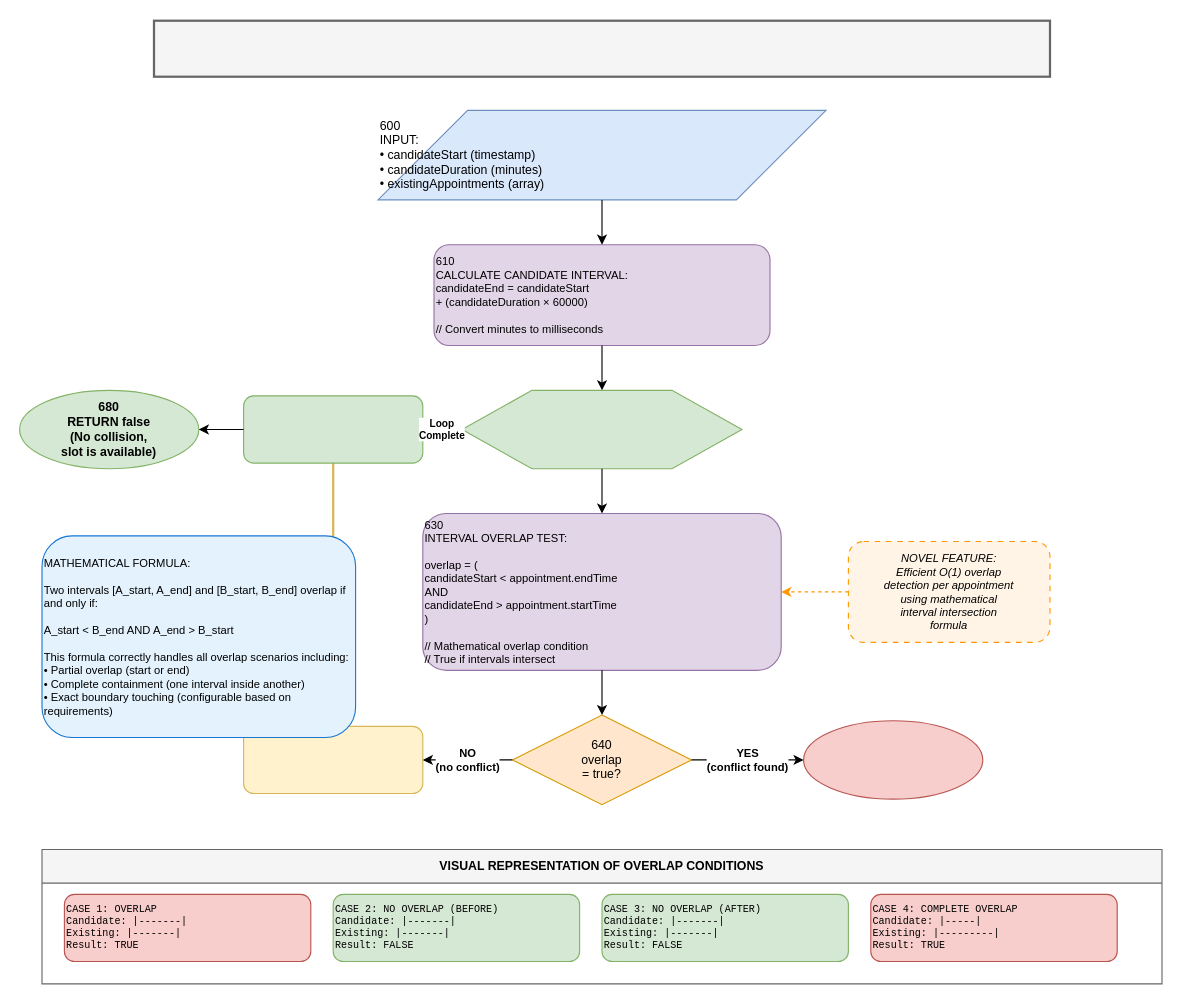
This 1182x1004 diagram has some shape labels left out. Here are the shapes that lost their labels. From the top down, the centre of each, then its label:
At point (601, 48): "FIG. 3: INTERVAL OVERLAP DETECTION ALGORITHM".
At point (332, 429): "670 All appointments checked No collisions found".
At point (601, 429): "620 FOR EACH appointment IN existingAppointments".
At point (332, 759): "660 Continue to next appointment".
At point (892, 759): "650 RETURN true (Collision detected)".
